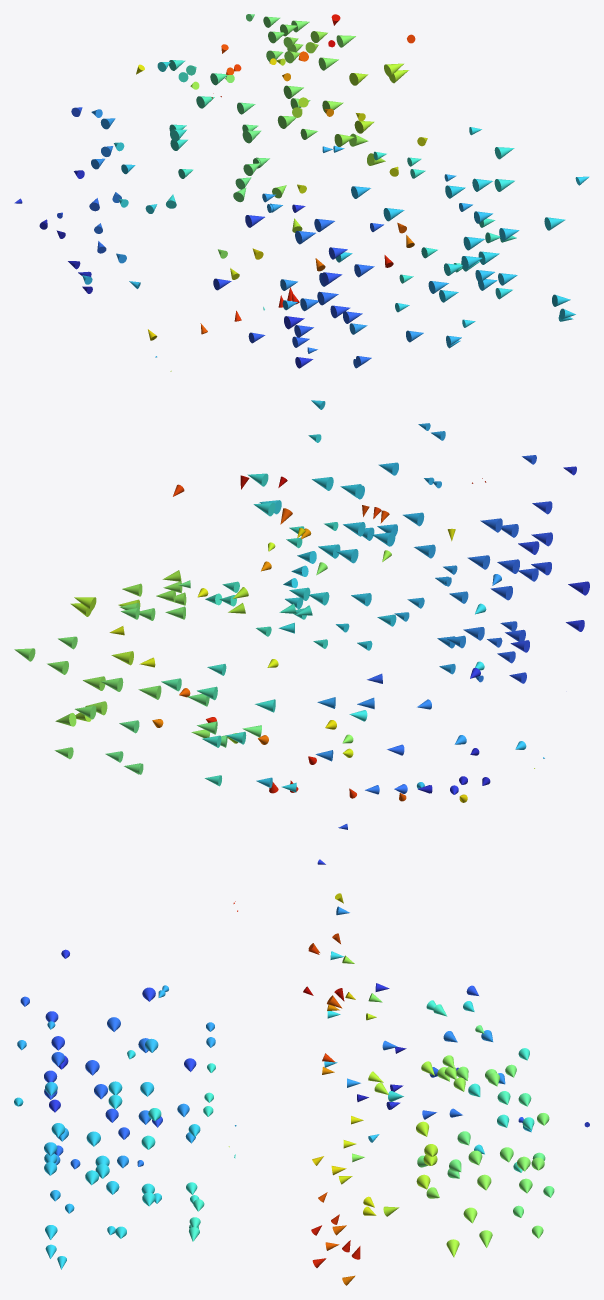
Rendered from LineasCorrienteN2-H2O_mh2-2.70_V-0.8.glb.
3 renders of one model, top to bottom at view 1: azimuth 30°, elevation 25°; view 2: azimuth 150°, elevation 25°; view 3: azimuth 270°, elevation 25°, orthographic. The views are drawn at different scales.
Bounding box in the file's own units: 0.000979 × 0.000707 × 0.00128.
Materials: 2 (2 with a texture image).
